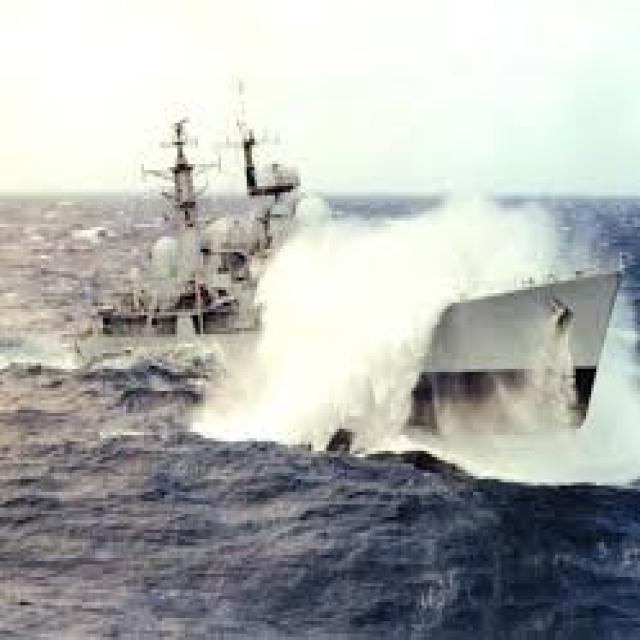navalvessels: (88, 116, 608, 437)
